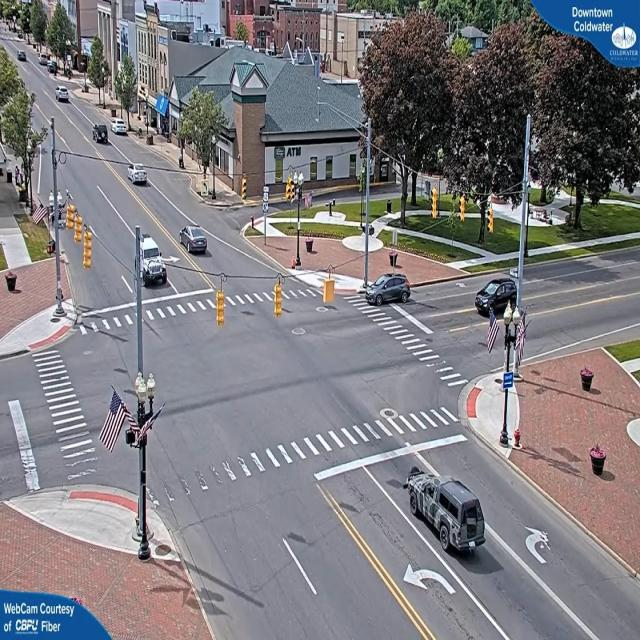car: (412, 476, 488, 560), (476, 277, 521, 314), (139, 232, 168, 287), (368, 273, 412, 304), (180, 225, 209, 254), (126, 164, 150, 186), (93, 125, 109, 145), (113, 121, 128, 137), (55, 87, 70, 102), (18, 53, 29, 65)
